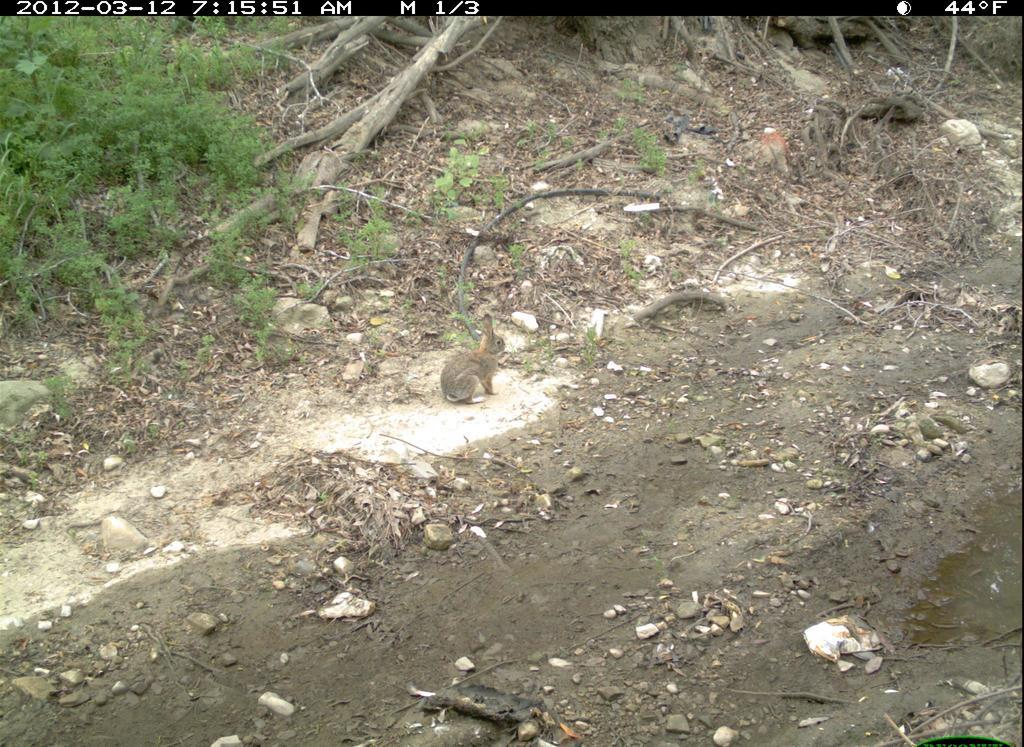rabbit: (437, 308, 511, 410)
